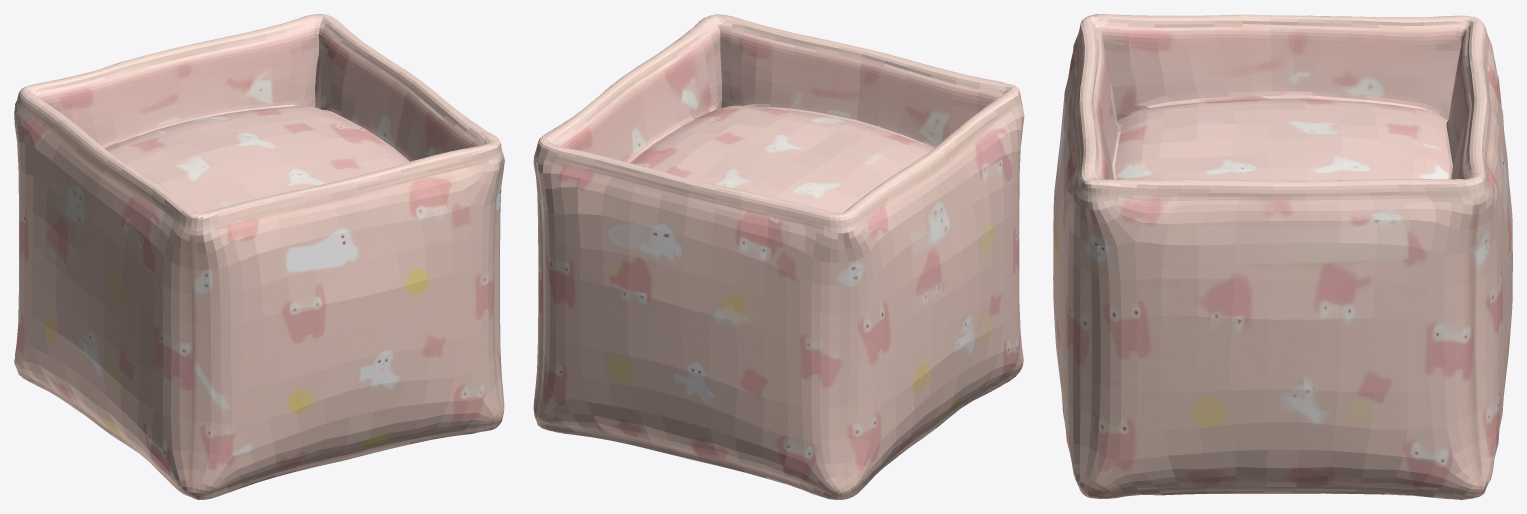
The model's file is Meshy_AI_stylized_fabric_stora_0322163950_texture.fbx.
The picture shows the model from 3 angles, left to right: view 1: azimuth 30°, elevation 25°; view 2: azimuth 150°, elevation 25°; view 3: azimuth 270°, elevation 25°; orthographic projection. The views are drawn at different scales.
Parts seen in each view (by area): view 1: temp; view 2: temp; view 3: temp.
Boxes of the visible parts, x1,y1,x2,y2 form: temp: [14, 14, 504, 499]; temp: [533, 14, 1024, 499]; temp: [1053, 14, 1512, 499].
Bounding box in the file's own units: 191 × 146 × 191.
1 material, 1 textured.
